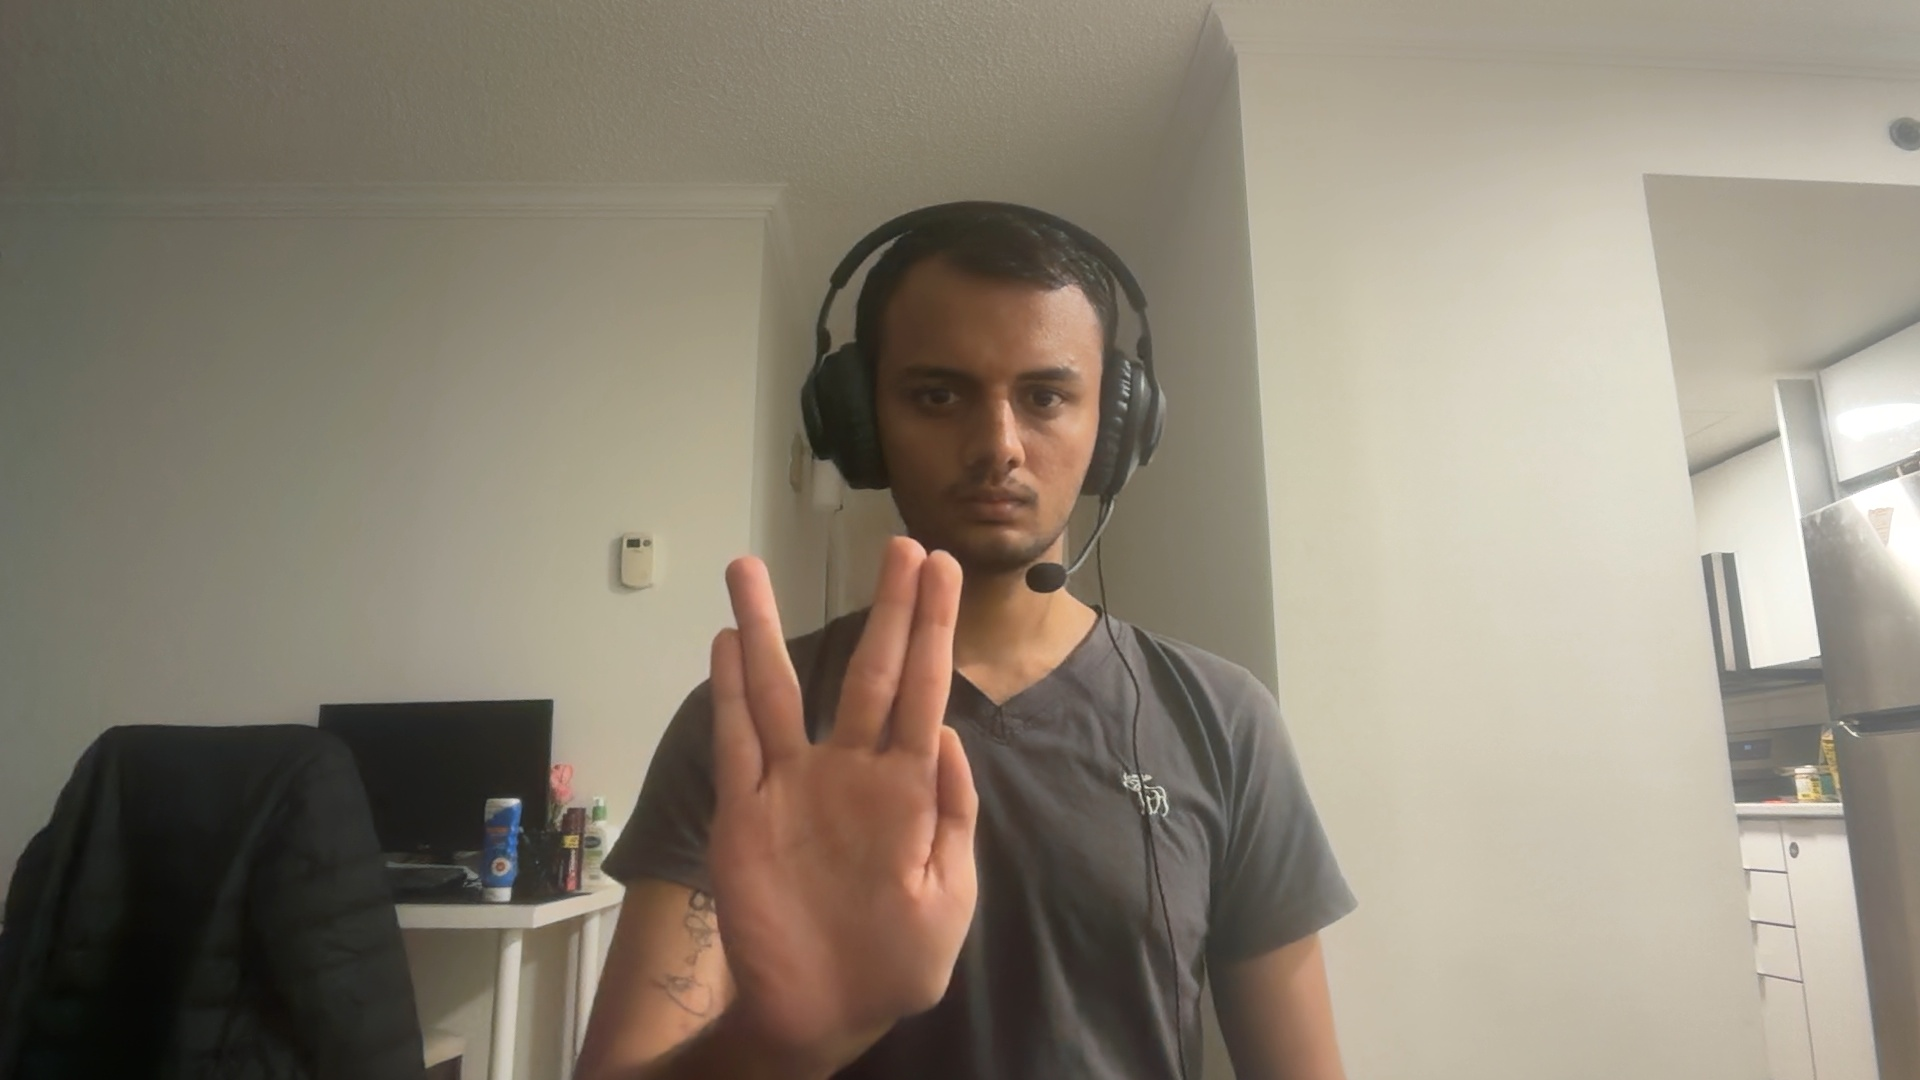livelong: (707, 534, 978, 1022)
